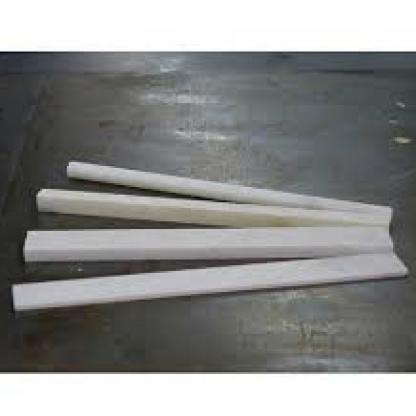Sedimentary_Chalk: (8, 147, 414, 313)
